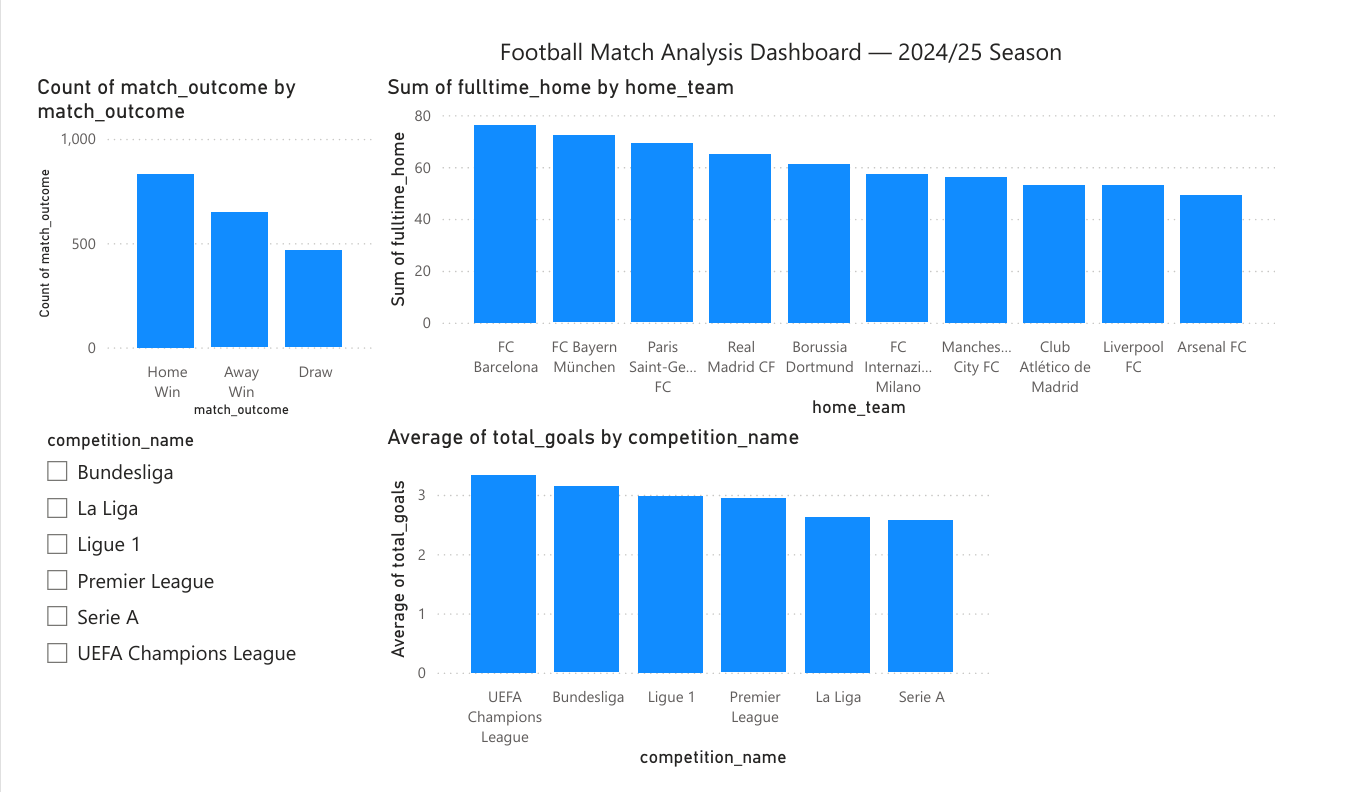

Layout of this report page (visuals, bound fields, positions):
{"tool":"powerbi","page":{"name":"Page 1","canvas":[1280,720],"ordinal":0},"visuals":[{"type":"clusteredColumnChart","fields":{"Category":["football_matches_2024_2025.match_outcome"],"Y":["CountNonNull(football_matches_2024_2025.match_outcome)"]},"box":[0,36,280,280],"z":0},{"type":"clusteredColumnChart","fields":{"Category":["football_matches_2024_2025.competition_name"],"Y":["Avg(football_matches_2024_2025.total_goals)"]},"box":[280,316.2,491.2,280],"z":1},{"type":"slicer","fields":{"Values":["football_matches_2024_2025.competition_name"]},"box":[0,316.2,280,203.8],"z":2},{"type":"clusteredColumnChart","fields":{"Category":["football_matches_2024_2025.home_team"],"Y":["Sum(football_matches_2024_2025.fulltime_home)"]},"box":[280,36.2,720,280],"z":3},{"type":"textbox","box":[370,0,465,36.2],"z":4}]}

Visuals, with their boxes on the page's 1280x720 design canvas (x1, y1, x2, y2). These are canvas units, not pixel positions in the 1345x792 screenshot, which may show the page scaled, cropped or inside an application window:
clusteredColumnChart - football_matches_2024_2025.match_outcome x CountNonNull(football_matches_2024_2025.match_outcome): x1=0, y1=36, x2=280, y2=316
clusteredColumnChart - football_matches_2024_2025.competition_name x Avg(football_matches_2024_2025.total_goals): x1=280, y1=316, x2=771, y2=596
slicer - football_matches_2024_2025.competition_name: x1=0, y1=316, x2=280, y2=520
clusteredColumnChart - football_matches_2024_2025.home_team x Sum(football_matches_2024_2025.fulltime_home): x1=280, y1=36, x2=1000, y2=316
textbox: x1=370, y1=0, x2=835, y2=36
